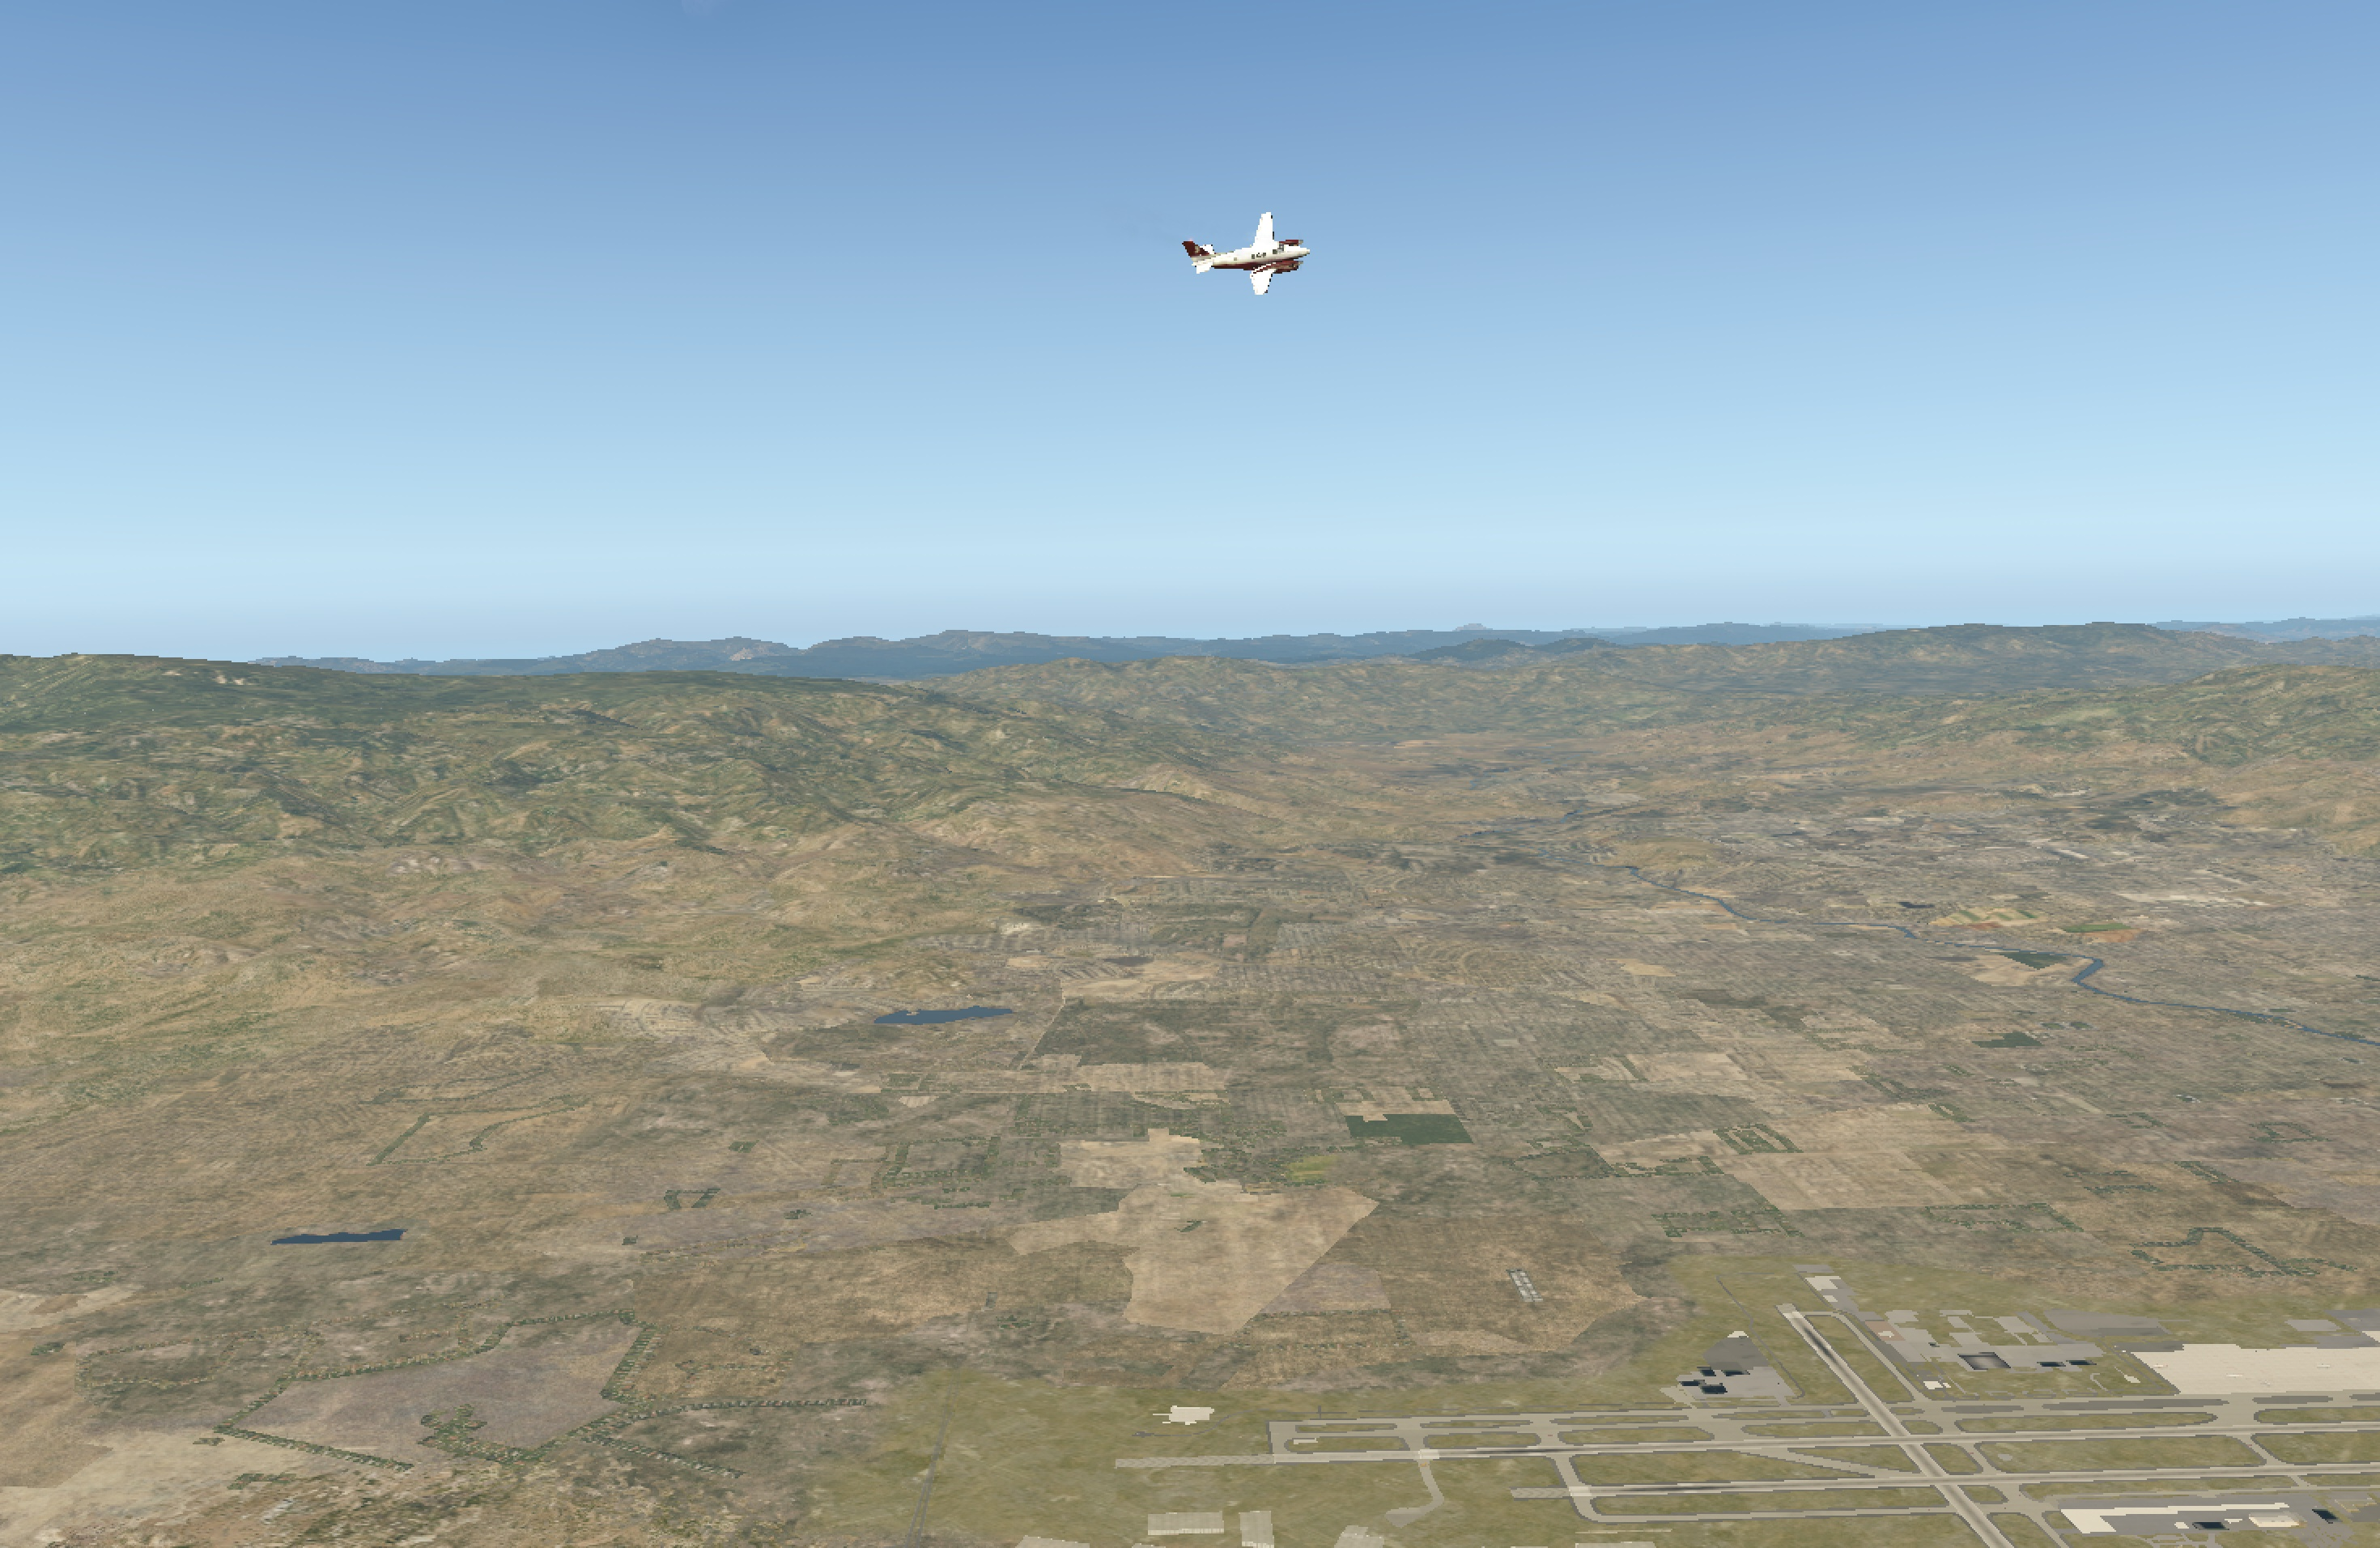aircraft: (1185, 229, 1360, 295)
